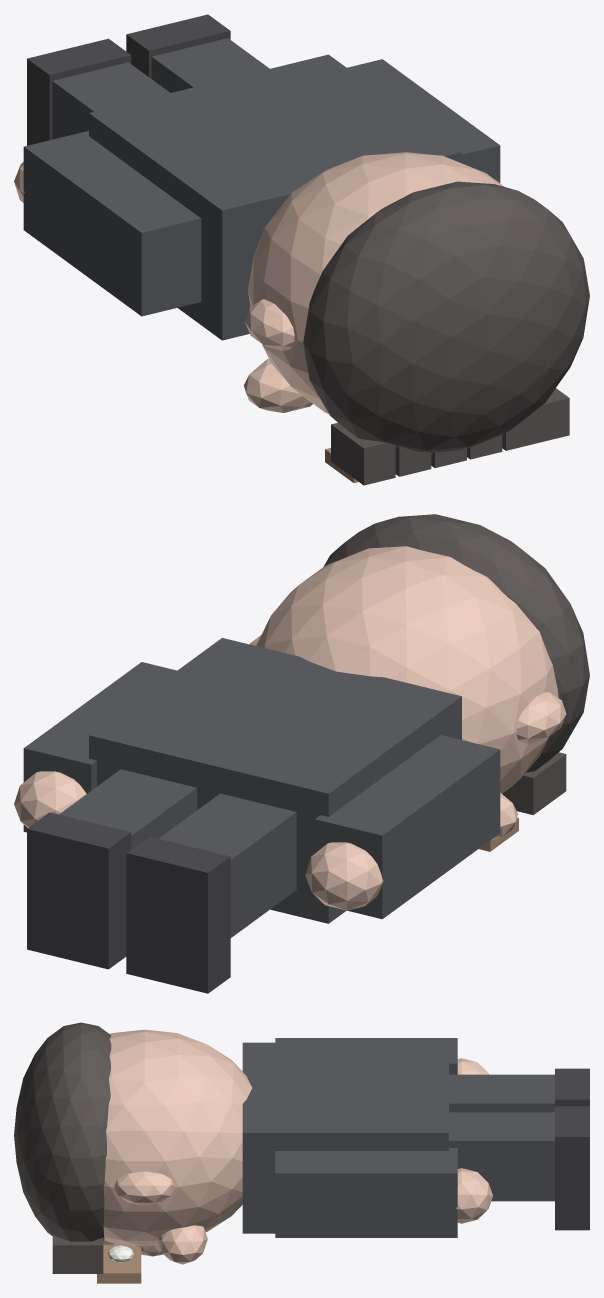
Rendered from MiangBoss.glb.
3 views of the same model, one above another, from view 1: azimuth 30°, elevation 25°; view 2: azimuth 150°, elevation 25°; view 3: azimuth 270°, elevation 25° (orthographic). The views are drawn at different scales.
Parts seen in each view (by area): view 1: HairCap, HoodieBody, LeftArm, MiangBoss_Head, RightArm, LeftLeg, LeftShoe, RightLeg, RightShoe, HairFringe_0, LeftCheek, LeftEar (+3 smaller); view 2: HoodieBody, MiangBoss_Head, LeftArm, LeftShoe, RightShoe, HairCap, LeftLeg, RightArm, RightLeg, LeftHand, RightHand, HairFringe_0 (+1 smaller); view 3: HoodieBody, MiangBoss_Head, HairCap, RightArm, RightLeg, RightShoe, LeftLeg, HairFringe_5, RightEar, RightHand, RightCheek, LeftShoe (+4 smaller).
Part boxes in pixels (x1,y1,x2,y2): HairCap: [303, 181, 589, 454]; HoodieBody: [89, 54, 461, 340]; LeftArm: [23, 131, 201, 316]; MiangBoss_Head: [248, 152, 504, 413]; RightArm: [347, 59, 500, 182]; LeftLeg: [52, 62, 169, 139]; LeftShoe: [27, 38, 131, 145]; RightLeg: [151, 38, 269, 92]; RightShoe: [126, 14, 230, 78]; HairFringe_0: [331, 423, 395, 485]; LeftCheek: [244, 358, 312, 412]; LeftEar: [244, 299, 294, 350]; HoodieBody: [89, 638, 461, 923]; MiangBoss_Head: [256, 546, 558, 793]; LeftArm: [315, 735, 500, 919]; LeftShoe: [126, 836, 230, 993]; RightShoe: [27, 812, 131, 969]; HairCap: [323, 514, 589, 772]; LeftLeg: [158, 793, 296, 937]; RightArm: [23, 662, 176, 832]; RightLeg: [59, 769, 197, 848]; LeftHand: [305, 842, 383, 910]; RightHand: [14, 771, 86, 827]; HairFringe_0: [502, 752, 566, 815]; HoodieBody: [242, 1042, 448, 1233]; MiangBoss_Head: [103, 1029, 252, 1246]; HairCap: [14, 1022, 111, 1241]; RightArm: [275, 1148, 457, 1237]; RightLeg: [449, 1112, 554, 1201]; RightShoe: [555, 1106, 589, 1230]; LeftLeg: [449, 1074, 554, 1112]; HairFringe_5: [52, 1235, 103, 1273]; RightEar: [114, 1171, 174, 1205]; RightHand: [456, 1168, 492, 1223]; RightCheek: [157, 1225, 207, 1264]; LeftShoe: [555, 1068, 589, 1106].
Bounding box in the file's own units: 2.04 × 1.54 × 3.63.
